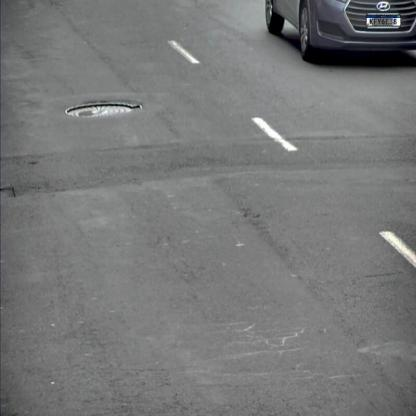PlacaM: (366, 14, 401, 26)
